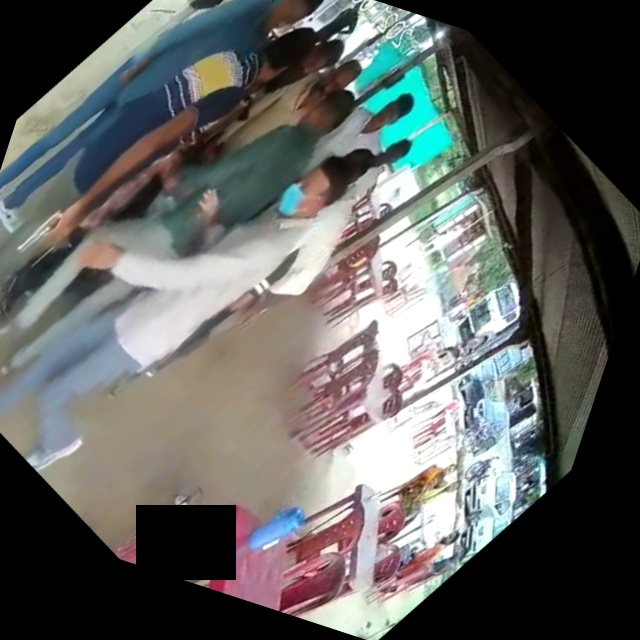gun: (0, 188, 90, 287)
